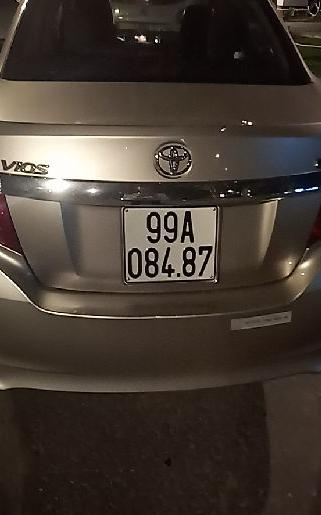Plate-iWeP: (124, 206, 216, 281)
